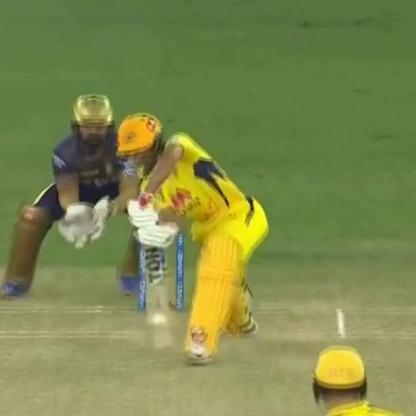ball: (147, 309, 168, 331)
bat: (121, 209, 184, 355)
